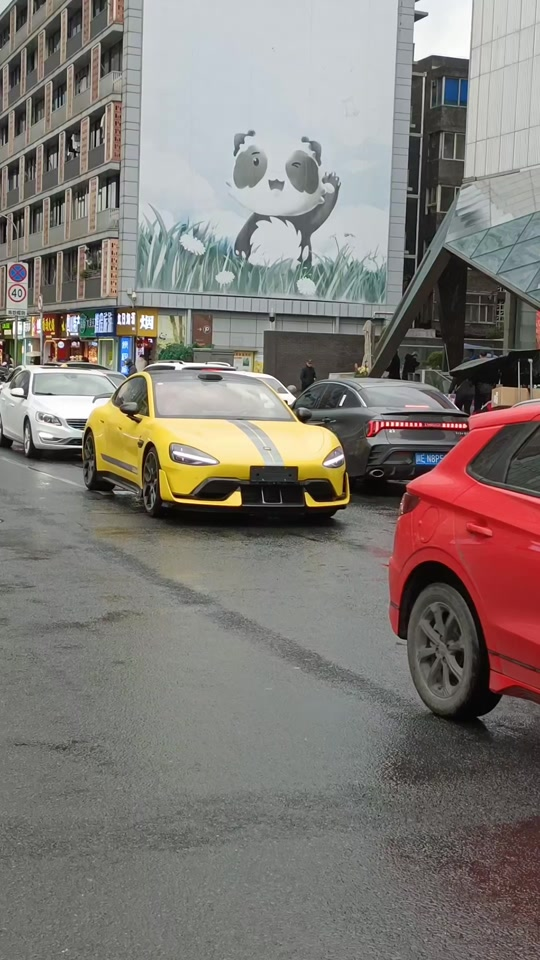other: (392, 402, 540, 750), (289, 368, 471, 491), (4, 361, 110, 455)
su7: (91, 359, 347, 522)
